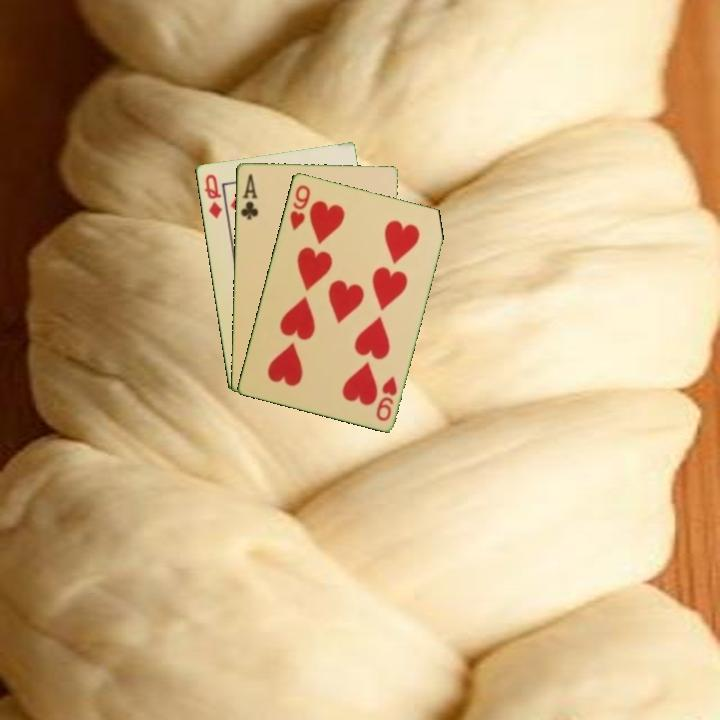9h: (372, 372, 400, 424), (286, 181, 313, 233)
Ac: (237, 170, 261, 222)
Qd: (200, 170, 224, 221)
